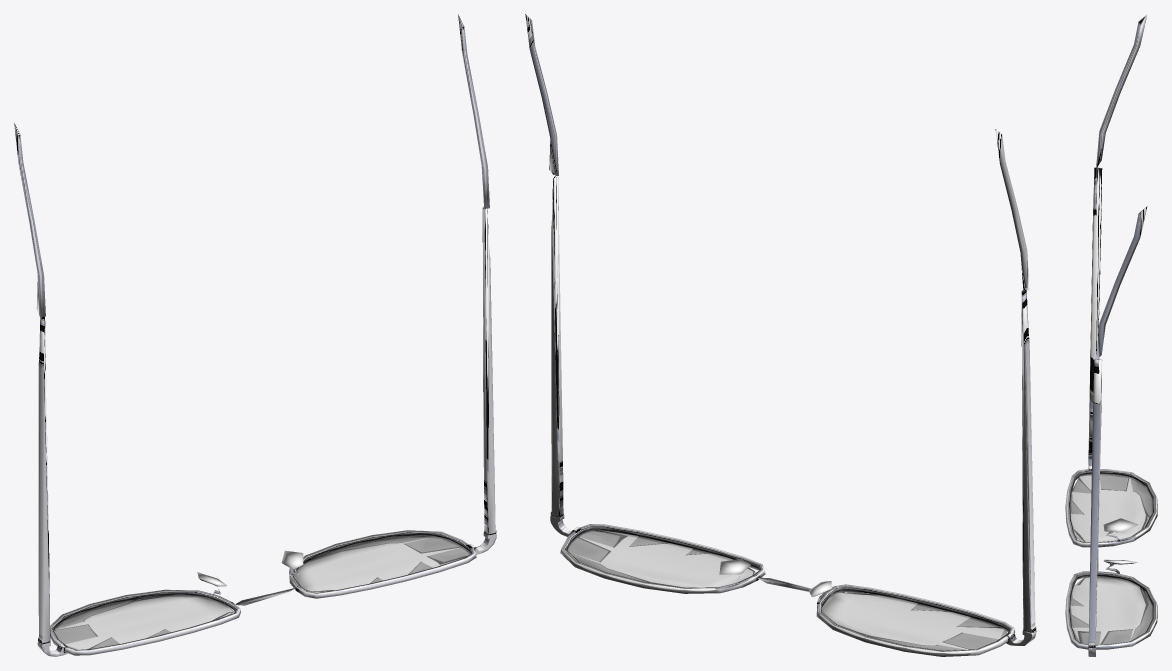
The model's file is 10308_Metal_Frame_Reading_Glasses_V2_Max2011_iterations-2.obj.
3 views of the same model, side by side, from view 1: azimuth 30°, elevation 25°; view 2: azimuth 150°, elevation 25°; view 3: azimuth 270°, elevation 25° (orthographic). The views are drawn at different scales.
Visible parts, largest first — view 1: 10308_Metal_Frame_Reading_Glasses_V2_Max2011_iterations-2; view 2: 10308_Metal_Frame_Reading_Glasses_V2_Max2011_iterations-2; view 3: 10308_Metal_Frame_Reading_Glasses_V2_Max2011_iterations-2.
Part boxes in pixels (x1=…): 10308_Metal_Frame_Reading_Glasses_V2_Max2011_iterations-2: x1=14, y1=14, x2=496, y2=656; 10308_Metal_Frame_Reading_Glasses_V2_Max2011_iterations-2: x1=525, y1=14, x2=1036, y2=656; 10308_Metal_Frame_Reading_Glasses_V2_Max2011_iterations-2: x1=1065, y1=14, x2=1157, y2=656.
Bounding box in the file's own units: 12.3 × 13.25 × 2.44.
Materials: 2 (2 with a texture image).
